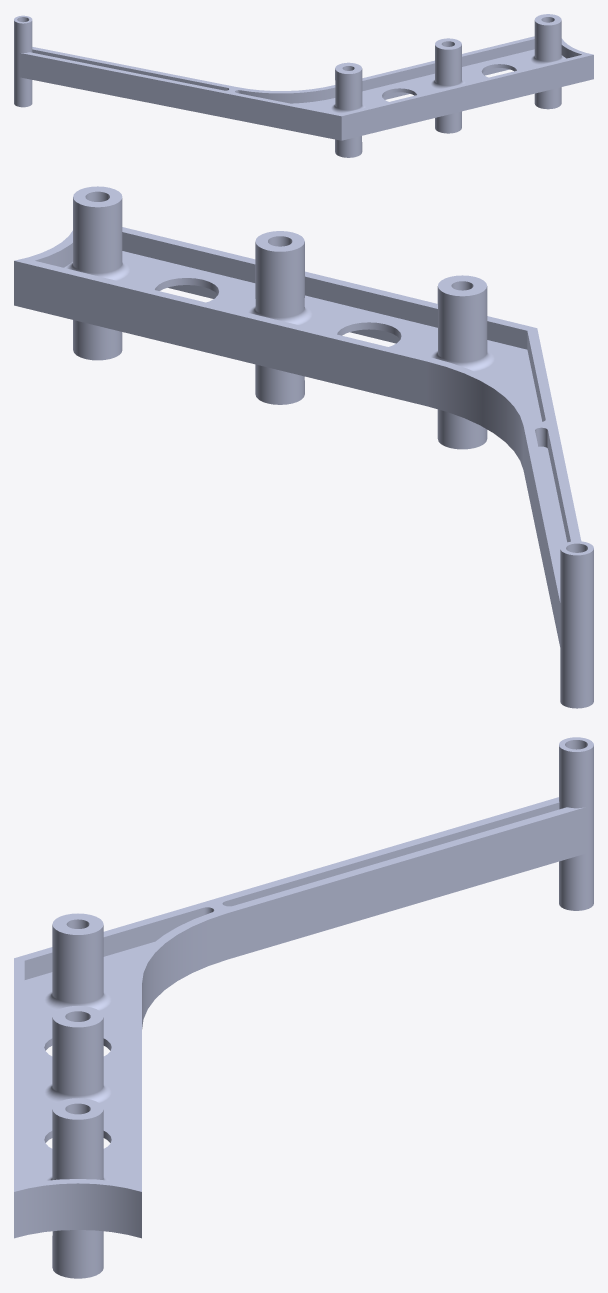
Rendered from Inlane Data East, Sega, Stern.fbx.
3 renders of one model, top to bottom at view 1: azimuth 30°, elevation 25°; view 2: azimuth 150°, elevation 25°; view 3: azimuth 270°, elevation 25°, orthographic. The views are drawn at different scales.
Parts seen in each view (by area): view 1: Inlane Data East, Sega, Stern; view 2: Inlane Data East, Sega, Stern; view 3: Inlane Data East, Sega, Stern.
Part boxes in pixels (<box>): Inlane Data East, Sega, Stern: <box>14,14,593,157</box>; Inlane Data East, Sega, Stern: <box>14,186,593,708</box>; Inlane Data East, Sega, Stern: <box>14,737,593,1278</box>.
Bounding box in the file's own units: 17.76 × 3.3 × 10.92.
